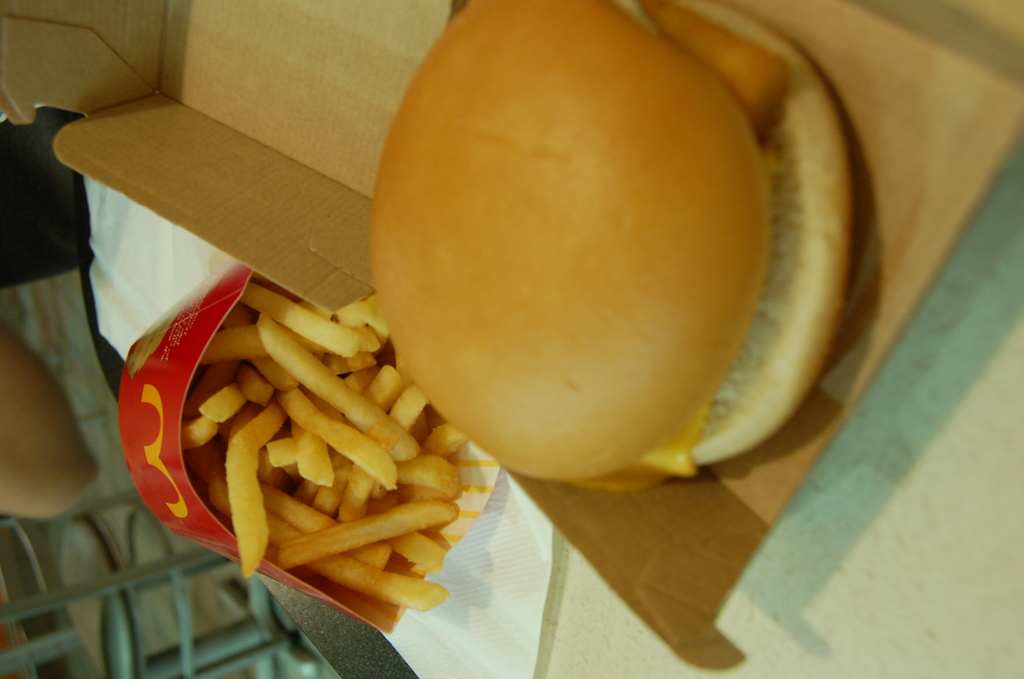French fries: (146, 276, 468, 623)
